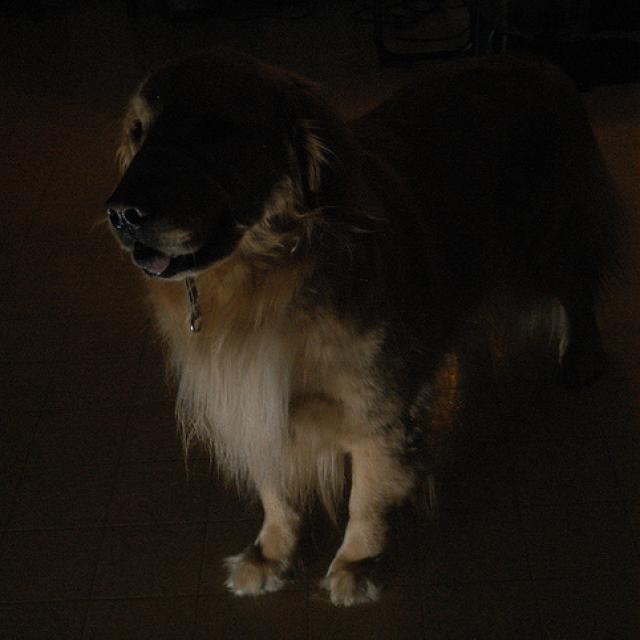Dog: (109, 44, 618, 608)
